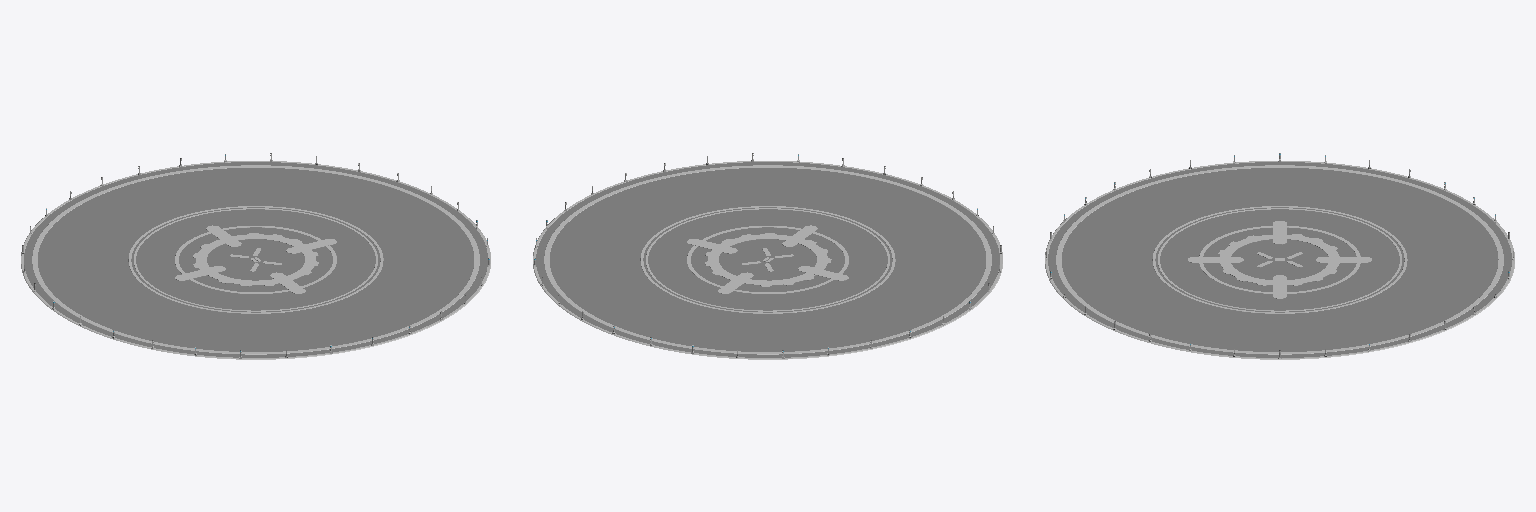
3 renders of one model, left to right at view 1: azimuth 30°, elevation 25°; view 2: azimuth 150°, elevation 25°; view 3: azimuth 270°, elevation 25°, orthographic.
Visible parts, largest first — view 1: platform1; view 2: platform1; view 3: platform1.
Part boxes in pixels (left/top/right/bottom): platform1: left=21, top=153, right=490, bottom=359; platform1: left=533, top=153, right=1002, bottom=359; platform1: left=1045, top=153, right=1514, bottom=359.
Bounding box in the file's own units: 60.52 × 1.25 × 60.52.
Materials: 1 (1 with a texture image).